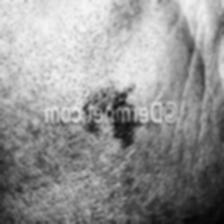Potentially Malignant Skin Tumors: (84, 84, 134, 142)
